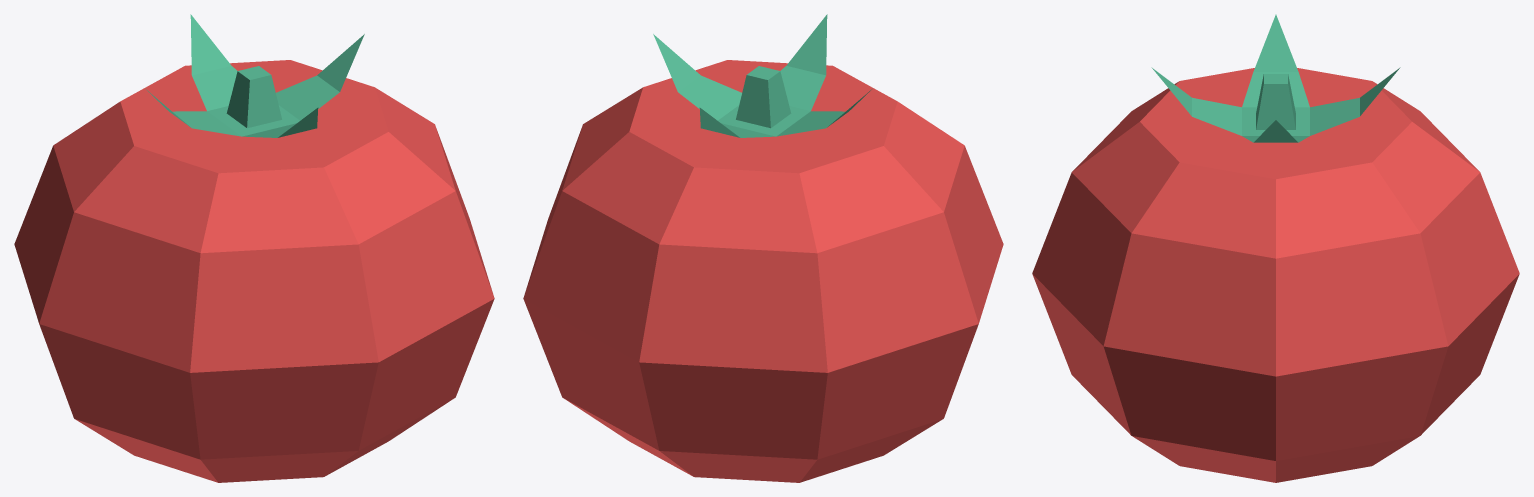
The model's file is tomato.fbx.
The picture shows the model from 3 angles, left to right: view 1: azimuth 30°, elevation 25°; view 2: azimuth 150°, elevation 25°; view 3: azimuth 270°, elevation 25°; orthographic projection.
Visible parts, largest first — view 1: tomato; view 2: tomato; view 3: tomato.
Part boxes in pixels (x1,y1,x2,y2): tomato: [14, 14, 494, 482]; tomato: [523, 14, 1003, 482]; tomato: [1032, 14, 1519, 482].
Size of the model in its own units: 1.7 by 1.38 by 1.7.
